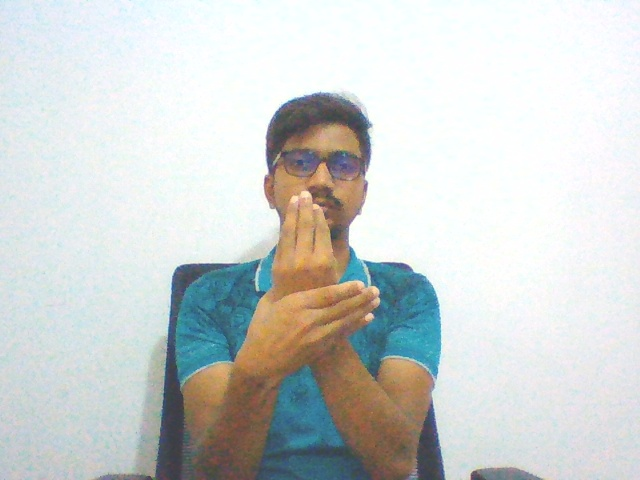tree: (231, 185, 386, 391)
